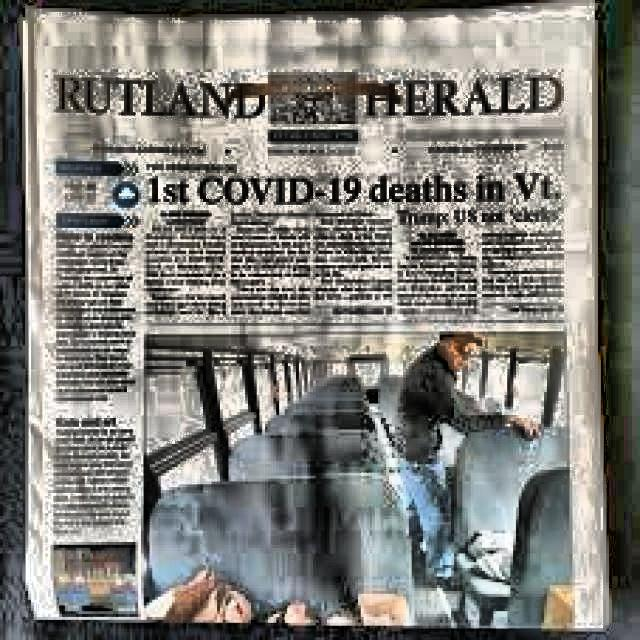Paper: (14, 0, 606, 628)
